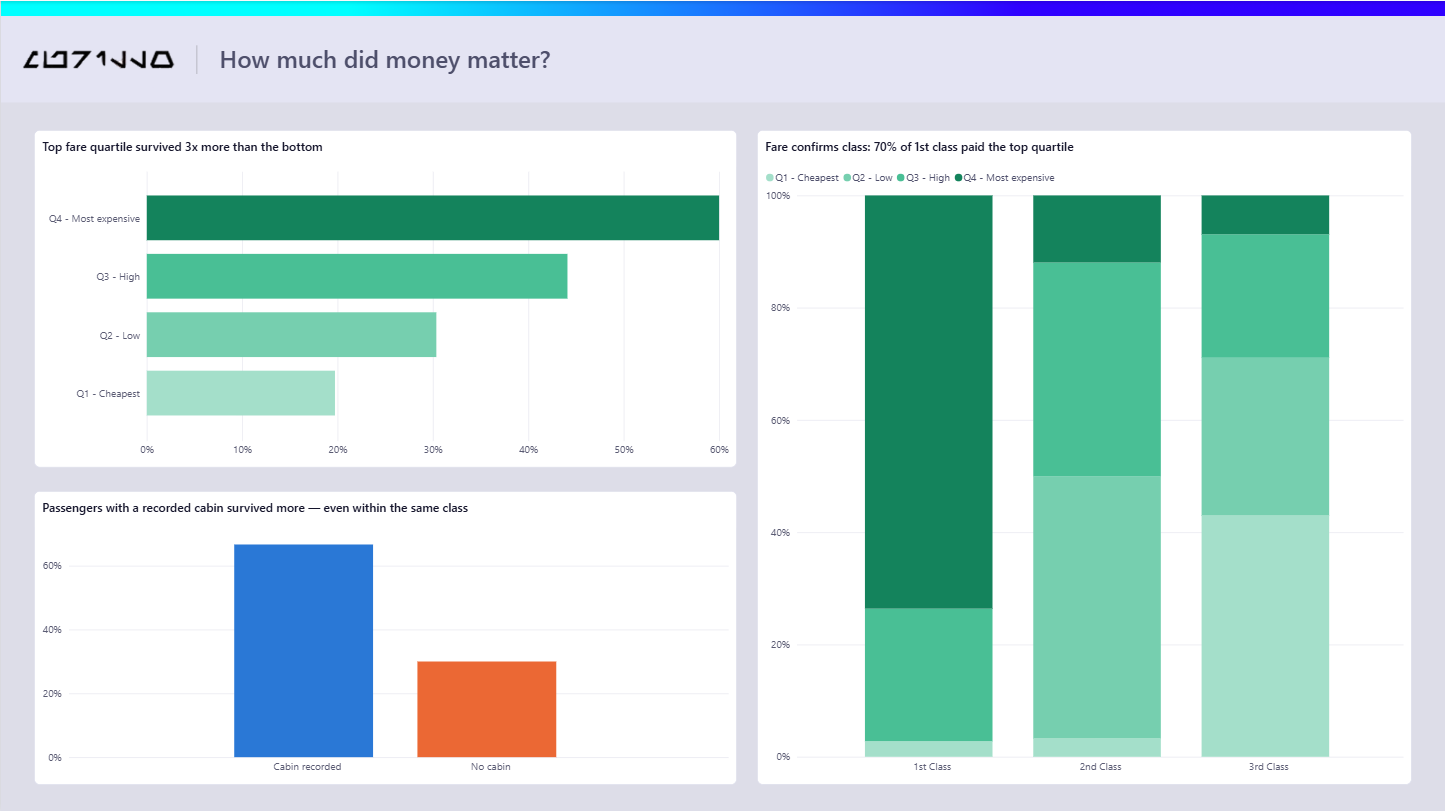

The page's visual inventory and layout, read from the dashboard file:
{"tool":"powerbi","page":{"name":"Fare & Social Class","canvas":[1920,1080],"ordinal":3},"visuals":[{"type":"clusteredBarChart","title":"Top fare quartile survived 3x more than the bottom","fields":{"Category":["d_grupo_tarifa.FaixaTarifa"],"Y":["_Measures.Taxa_Sobrevivencia"]},"box":[43.8,172.2,935.2,449.4],"z":0},{"type":"hundredPercentStackedColumnChart","title":"Fare confirms class: 70% of 1st class paid the top quartile","fields":{"Category":["d_classe.NomeClasse"],"Series":["d_grupo_tarifa.FaixaTarifa"],"Y":["_Measures.Total_Passengers"]},"box":[1005.2,172.2,871,871],"z":1000},{"type":"columnChart","title":"Passengers with a recorded cabin survived more — even within the same class","fields":{"Category":["f_titanic.Cabin Status"],"Y":["_Measures.Taxa_Sobrevivencia"]},"box":[43.8,652.2,935.2,391],"z":2000},{"type":"textbox","box":[280,44.3,828.6,72.9],"z":3000}]}

Visuals, with their boxes in screenshot pixels (x1, y1, x2, y2), scaled from the page's 1920x1080 canvas onto the 1445x811 screenshot:
"Top fare quartile survived 3x more than the bottom" clusteredBarChart: bbox(33, 129, 737, 467)
"Fare confirms class: 70% of 1st class paid the top quartile" hundredPercentStackedColumnChart: bbox(757, 129, 1412, 783)
"Passengers with a recorded cabin survived more — even within the same class" columnChart: bbox(33, 490, 737, 783)
textbox: bbox(211, 33, 834, 88)
